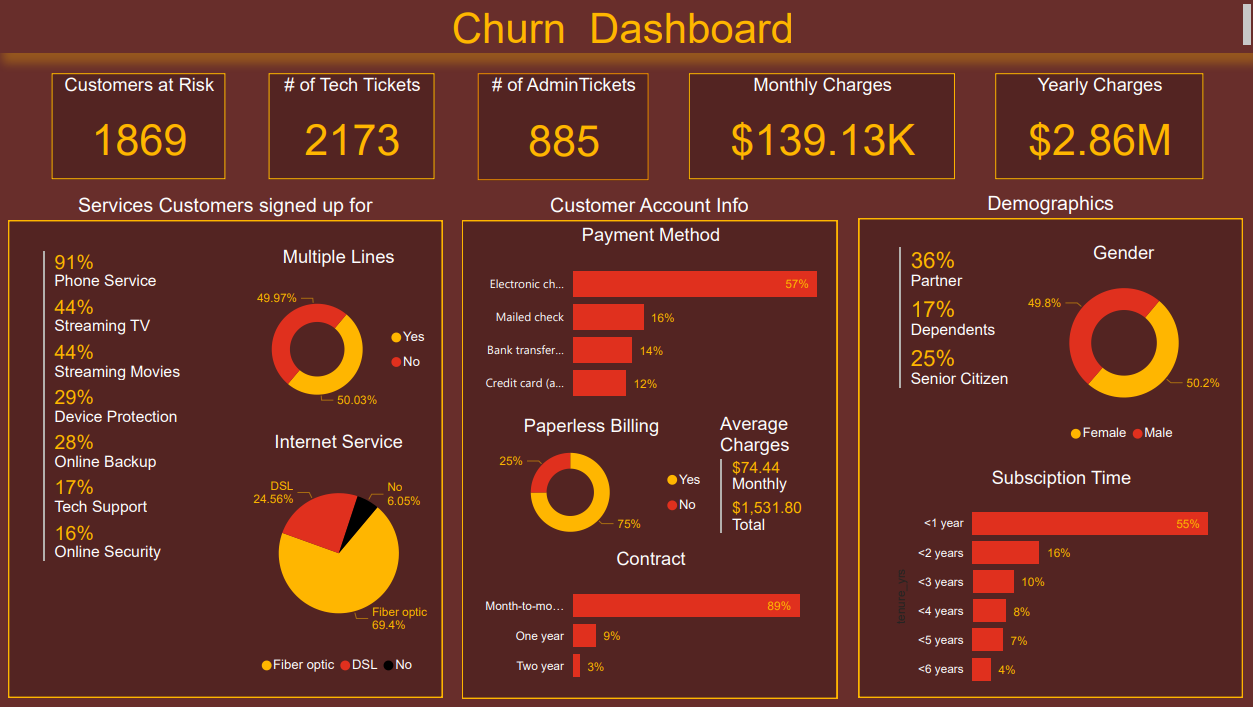

What the dashboard file says about the page in this screenshot:
{"tool":"powerbi","page":{"name":"Churn Dashboard","canvas":[1280,720],"ordinal":0},"visuals":[{"type":"shape","title":"Customer Account Info","box":[472,198.4,381.8,513.5],"z":0,"group":"g2"},{"type":"shape","title":"Demographics","box":[875.9,195.6,391.2,515.9],"z":1000},{"type":"group","id":"g1","title":"Group 1","box":[479.1,229,371.3,480.5],"z":1000,"group":"g2"},{"type":"textbox","box":[0,0,1279.8,55.3],"z":2000},{"type":"card","title":"Customers at Risk","fields":{"Values":["CountNonNull(01 Churn-Dataset.customerID)"]},"box":[53.9,75.1,177.2,107.7],"z":3000},{"type":"card","title":"# of Tech Tickets","fields":{"Values":["Sum(01 Churn-Dataset.numTechTickets)"]},"box":[275,75.1,168.7,107.7],"z":4000},{"type":"card","title":"# of AdminTickets","fields":{"Values":["Sum(01 Churn-Dataset.numAdminTickets)"]},"box":[487.6,75.1,174.3,109.1],"z":6000},{"type":"card","title":"Monthly Charges","fields":{"Values":["Sum(01 Churn-Dataset.MonthlyCharges)"]},"box":[703,75.1,270.7,107.7],"z":7000},{"type":"card","title":"Yearly Charges","fields":{"Values":["Sum(01 Churn-Dataset.TotalCharges)"]},"box":[1014.8,75.1,212.6,107.7],"z":8000},{"type":"donutChart","title":"Gender","fields":{"Category":["01 Churn-Dataset.gender"],"Y":["CountNonNull(01 Churn-Dataset.Churn)"]},"box":[1036.1,247.3,220.3,213.6],"z":9000},{"type":"donutChart","title":"Paperless Billing","fields":{"Category":["01 Churn-Dataset.PaperlessBilling"],"Y":["CountNonNull(01 Churn-Dataset.Churn)"]},"box":[479.1,422.5,250.4,136.8],"z":9000,"group":"g1"},{"type":"shape","title":"Services Customers signed up for","box":[9.9,198.4,442.4,513],"z":9500,"group":"g3"},{"type":"multiRowCard","title":"Services Customers signed up for","fields":{"Values":["01 Churn-Dataset.%_PhoneService","01 Churn-Dataset.%_StreamingTV","01 Churn-Dataset.%_StreamingMovies","01 Churn-Dataset.%_InternetServices","01 Churn-Dataset.%_OnlineBackup","01 Churn-Dataset.%_TechSupport","01 Churn-Dataset.%_OnlineSecurity"]},"box":[40.4,251.4,204.8,445.5],"z":10000,"group":"g4"},{"type":"group","id":"g2","title":"Group 2","box":[472,198.4,381.8,513.5],"z":11000},{"type":"barChart","title":"Payment Method","fields":{"Category":["01 Churn-Dataset.PaymentMethod"],"Y":["CountNonNull(01 Churn-Dataset.Churn)"]},"box":[479.1,229,371.3,193.5],"z":11000,"group":"g1"},{"type":"barChart","title":"Subsciption Time","fields":{"Y":["CountNonNull(01 Churn-Dataset.Churn)"],"Category":["01 Churn-Dataset.tenure_yrs"]},"box":[908.5,476.2,347.2,235.3],"z":12000},{"type":"group","id":"g3","title":"Group 4","box":[9.9,198.4,442.2,513.1],"z":13000},{"type":"group","id":"g4","title":"Group 3","box":[40.4,251.4,407.8,445.5],"z":13000,"group":"g3"},{"type":"multiRowCard","title":"Average Charges","fields":{"Values":["Avg(01 Churn-Dataset.MonthlyCharges)","Avg(01 Churn-Dataset.TotalCharges)"]},"box":[729.7,421,120.8,138.5],"z":13000,"group":"g1"},{"type":"multiRowCard","fields":{"Values":["01 Churn-Dataset.%_Partner","01 Churn-Dataset.%_Dependents","01 Churn-Dataset.%_SeniorCitizen"]},"box":[911.6,246.6,127.8,197.9],"z":14000},{"type":"pieChart","title":"Internet Service","fields":{"Category":["01 Churn-Dataset.InternetService"],"Y":["CountNonNull(01 Churn-Dataset.Churn)"]},"box":[245.2,440.7,203,256.2],"z":14000,"group":"g4"},{"type":"barChart","title":"Contract","fields":{"Category":["01 Churn-Dataset.Contract"],"Y":["CountNonNull(01 Churn-Dataset.Churn)"]},"box":[479.1,559.3,371.3,150.1],"z":15000,"group":"g1"},{"type":"donutChart","title":"Multiple Lines","fields":{"Category":["01 Churn-Dataset.MultipleLines"],"Series":["01 Churn-Dataset.Churn"],"Y":["CountNonNull(01 Churn-Dataset.Churn)"]},"box":[245.2,251.4,203,189.3],"z":17000,"group":"g4"}]}

Visuals, with their boxes in screenshot pixels (x1, y1, x2, y2), scaled from the page's 1280x720 canvas onto the 1253x708 screenshot:
"Customer Account Info" shape: (462,195,836,700)
"Demographics" shape: (857,192,1240,700)
"Group 1" group: (469,225,832,698)
textbox: (0,0,1252,54)
"Customers at Risk" card: (53,74,226,180)
"# of Tech Tickets" card: (269,74,434,180)
"# of AdminTickets" card: (477,74,648,181)
"Monthly Charges" card: (688,74,953,180)
"Yearly Charges" card: (993,74,1202,180)
"Gender" donutChart: (1014,243,1230,453)
"Paperless Billing" donutChart: (469,415,714,550)
"Services Customers signed up for" shape: (10,195,443,700)
"Services Customers signed up for" multiRowCard: (40,247,240,685)
"Group 2" group: (462,195,836,700)
"Payment Method" barChart: (469,225,832,415)
"Subsciption Time" barChart: (889,468,1229,700)
"Group 4" group: (10,195,443,700)
"Group 3" group: (40,247,439,685)
"Average Charges" multiRowCard: (714,414,833,550)
multiRowCard - 01 Churn-Dataset.%_Partner x 01 Churn-Dataset.%_Dependents: (892,242,1017,437)
"Internet Service" pieChart: (240,433,439,685)
"Contract" barChart: (469,550,832,698)
"Multiple Lines" donutChart: (240,247,439,433)
